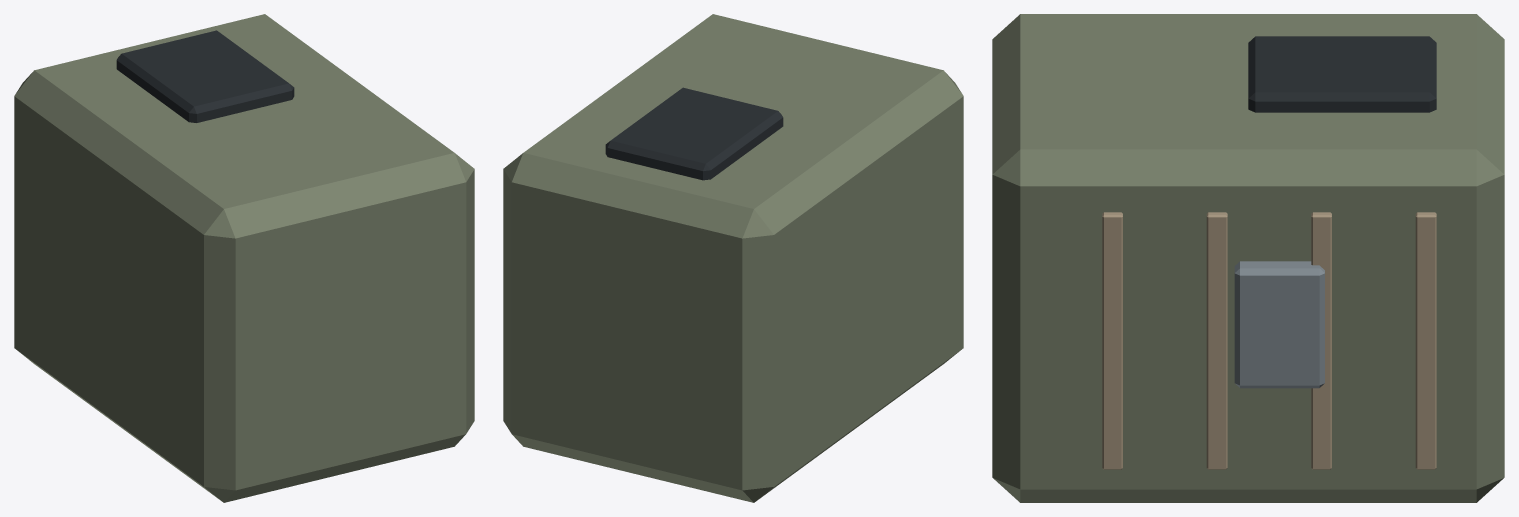
Rendered from att_mag_bison556_quick.glb.
3 renders of one model, left to right at view 1: azimuth 30°, elevation 25°; view 2: azimuth 150°, elevation 25°; view 3: azimuth 270°, elevation 25°, orthographic. The views are drawn at different scales.
Parts seen in each view (by area): view 1: Geometry_att_mag_bison556_quick; view 2: Geometry_att_mag_bison556_quick; view 3: Geometry_att_mag_bison556_quick.
Part boxes in pixels (x1,y1,x2,y2): Geometry_att_mag_bison556_quick: [14, 14, 474, 502]; Geometry_att_mag_bison556_quick: [503, 14, 963, 502]; Geometry_att_mag_bison556_quick: [992, 14, 1504, 502].
Size of the model in its own units: 0.115 by 0.1175 by 0.147.
